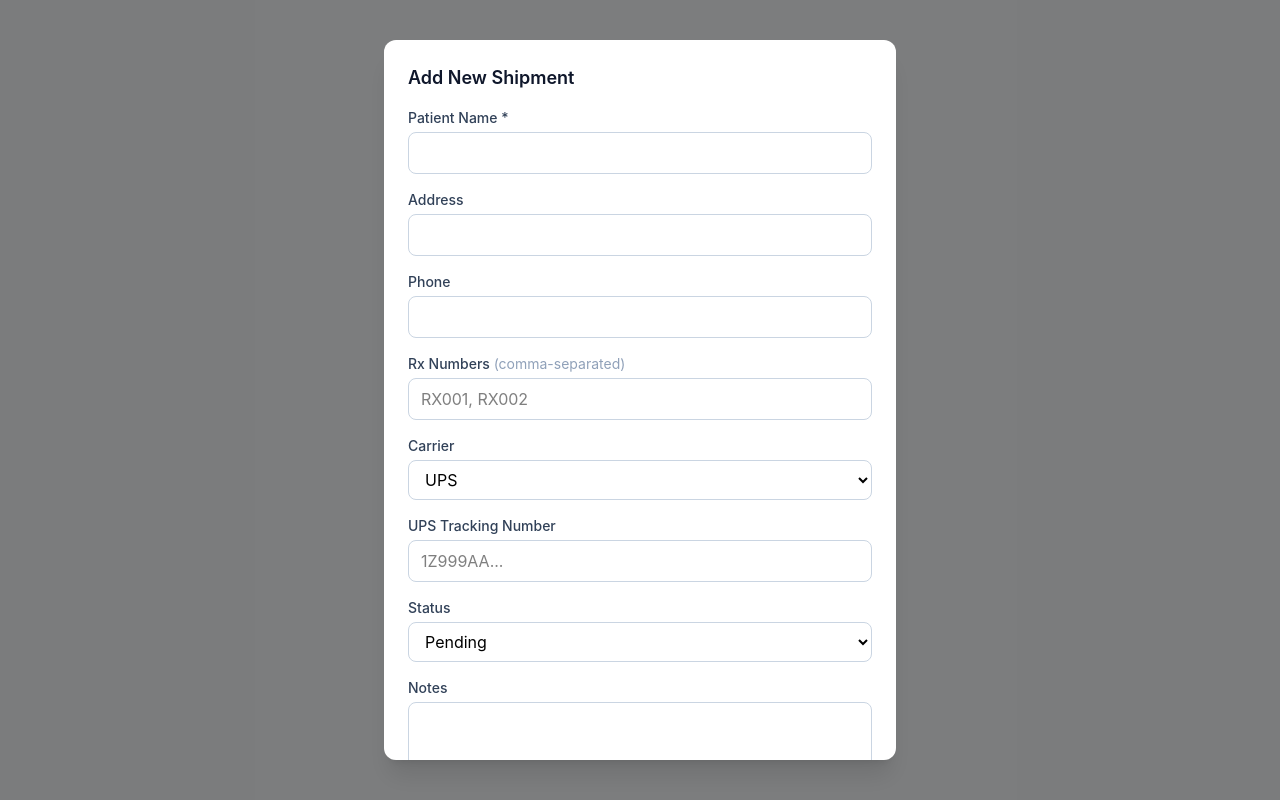
Test: ShipmentModal › updates tracking label when carrier changes to FedEx
expect the text "UPS Tracking Number" is shown: met, box [408, 517, 556, 534]
Note: Change carrier to FedEx
Select "FedEx" in the dropdown named "carrier" below "Carrier" at (640, 480), box [408, 460, 872, 500]
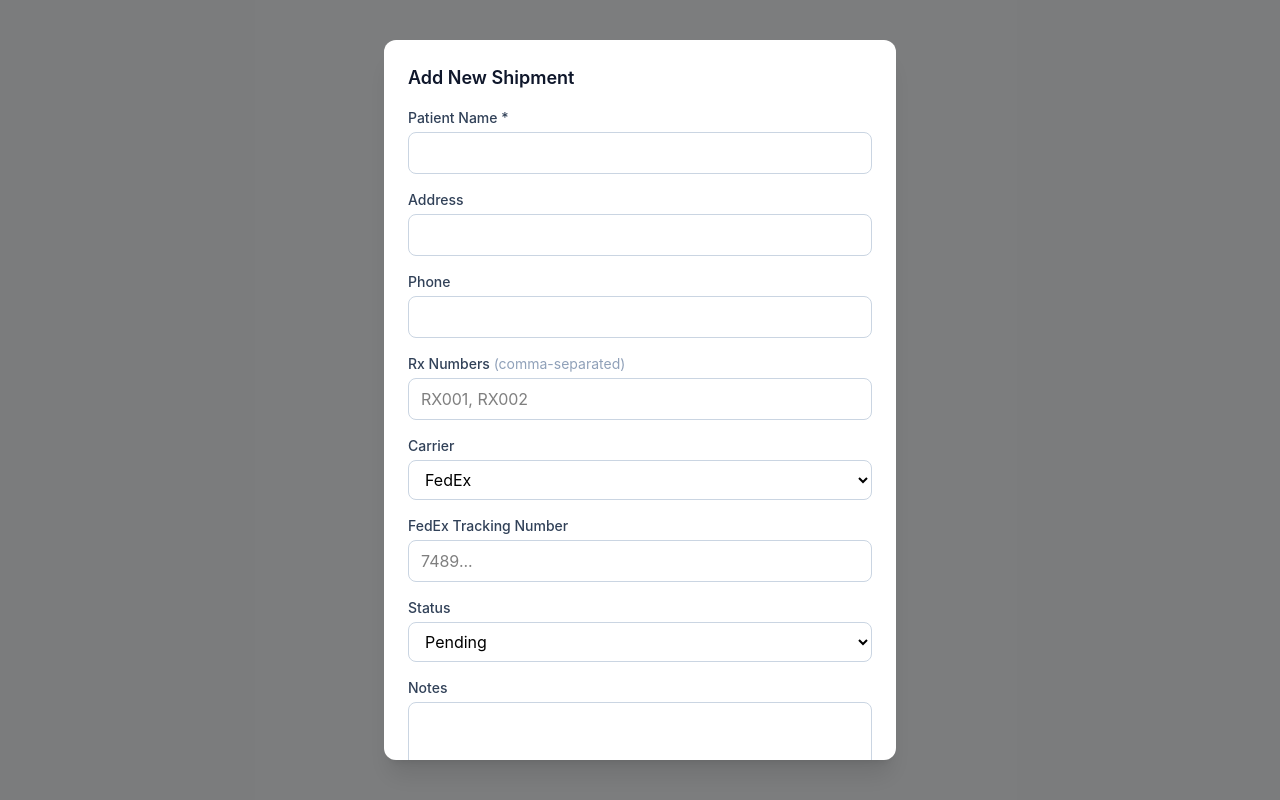
expect the text "FedEx Tracking Number" is shown: met, box [408, 517, 568, 534]
